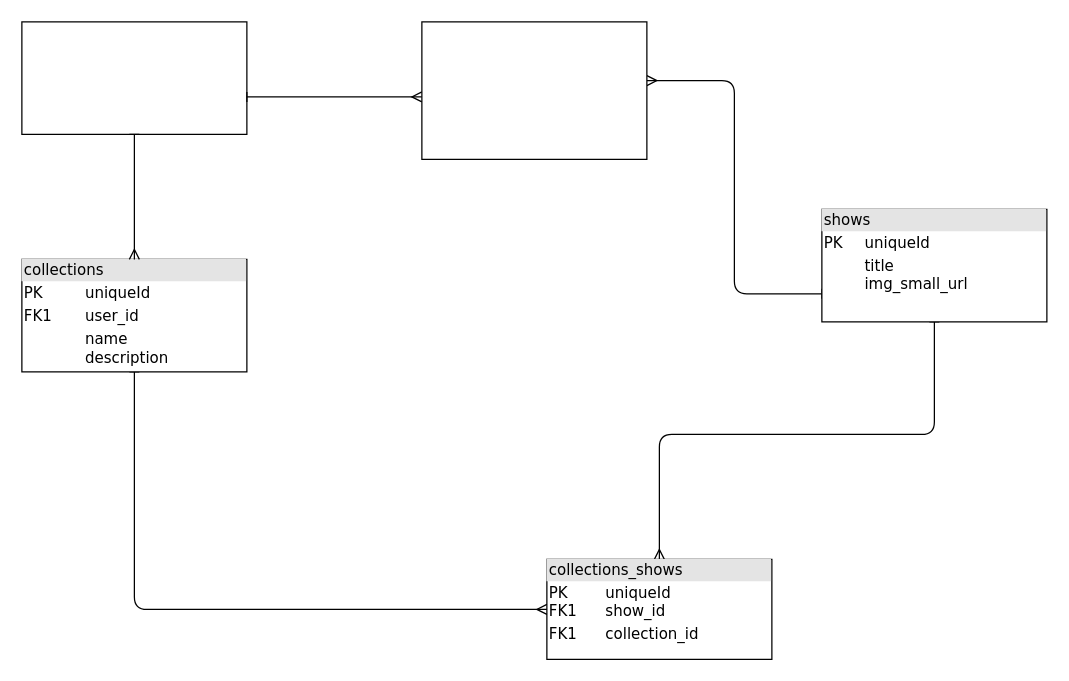
This 1069x681 diagram has some shape labels left out. The centre of each missing label's shape, as x and y in pixels:
comments PK uniqueId FK1 user_id FK1 text timestamp show_id: the point at 534,90
users PK uniqueId username password: the point at 134,77
